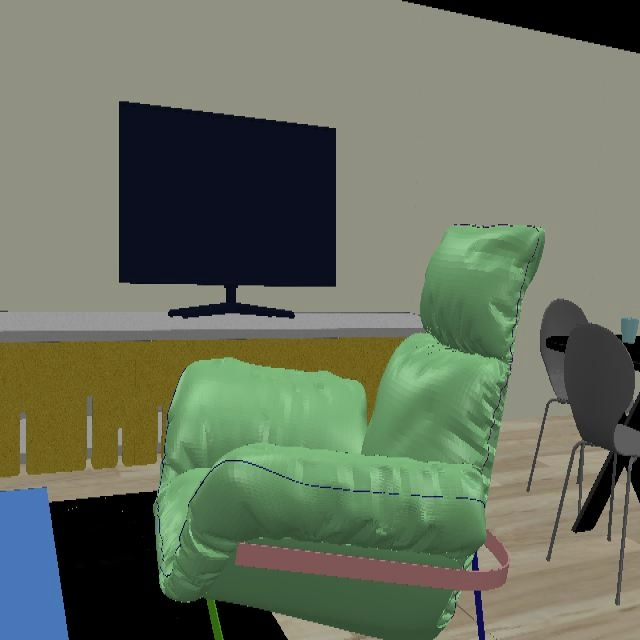chair: (539, 299, 640, 465)
monitor: (117, 103, 337, 307)
sofa: (153, 224, 546, 640)
table: (0, 489, 69, 640)
